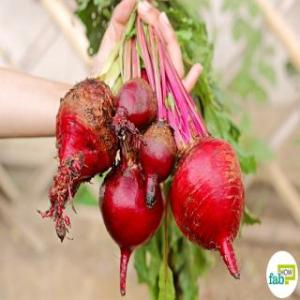beet: (170, 138, 246, 278), (99, 163, 165, 297), (57, 79, 116, 183), (140, 125, 176, 186), (119, 79, 157, 125)
